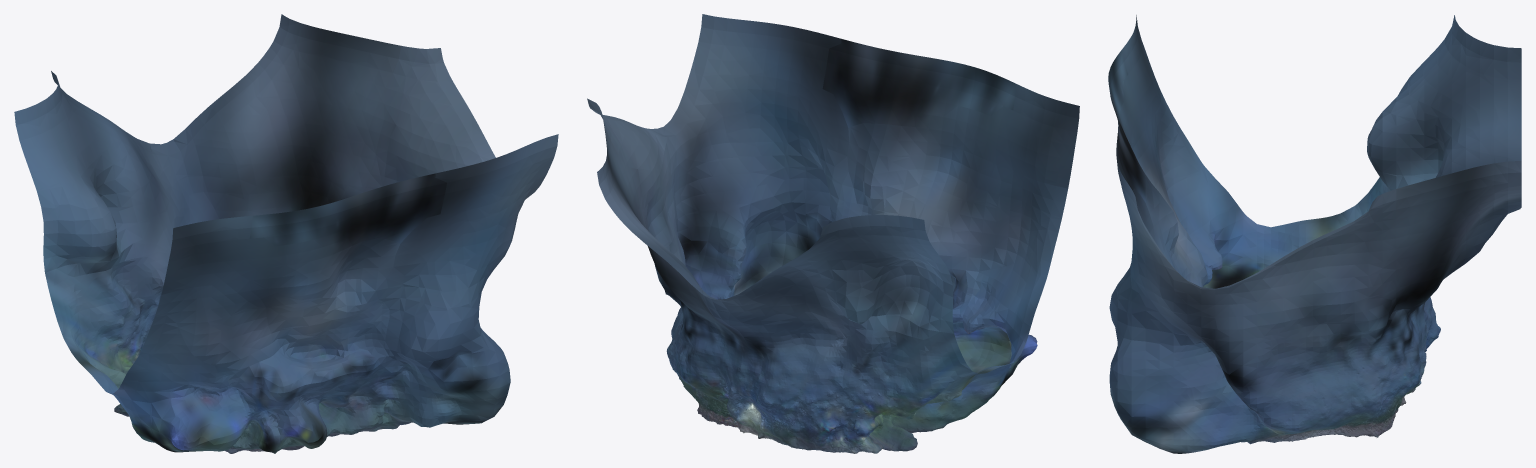
The model's file is kerb_mesh.glb.
The picture shows the model from 3 angles, left to right: view 1: azimuth 30°, elevation 25°; view 2: azimuth 150°, elevation 25°; view 3: azimuth 270°, elevation 25°; orthographic projection. The views are drawn at different scales.
Parts seen in each view (by area): view 1: world; view 2: world; view 3: world.
Boxes of the visible parts, <box> form: world: <box>14,14,558,453</box>; world: <box>587,14,1079,453</box>; world: <box>1108,15,1521,453</box>.
Bounding box in the file's own units: 71.55 × 52.02 × 66.39.
Materials: 1 (1 with a texture image).
